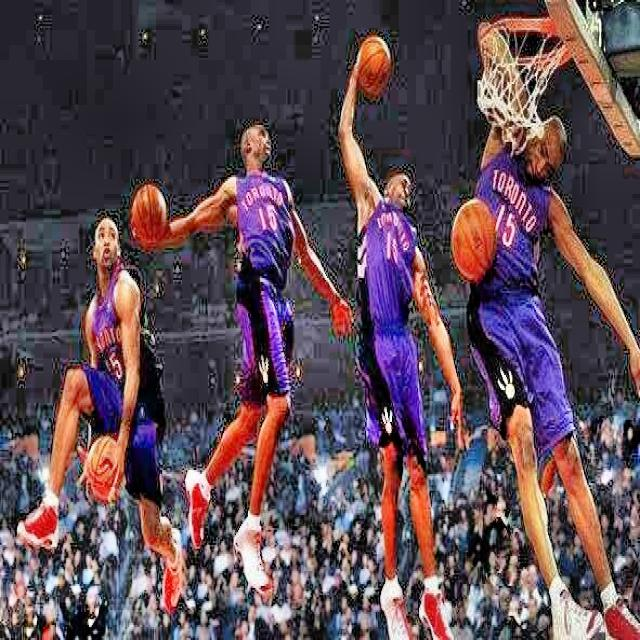board: (452, 198, 496, 284), (358, 35, 392, 99), (131, 186, 167, 245)
rim: (478, 17, 564, 136)
